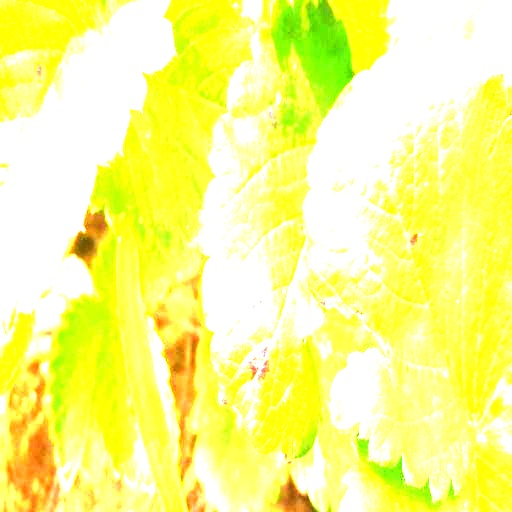Leaf Spot: (300, 39, 511, 504), (198, 0, 356, 465)
